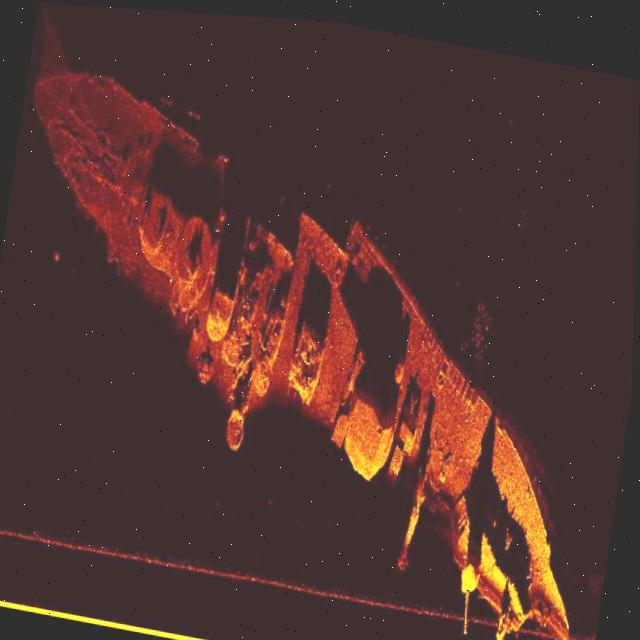shipwreck: (0, 57, 639, 640)
